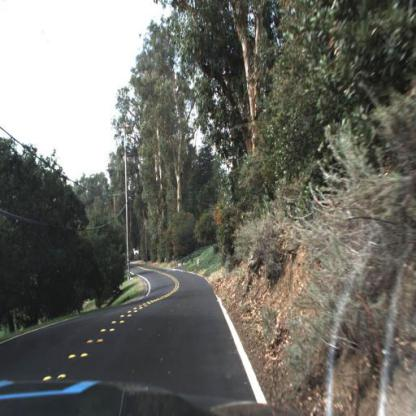car: (130, 247, 143, 265)
